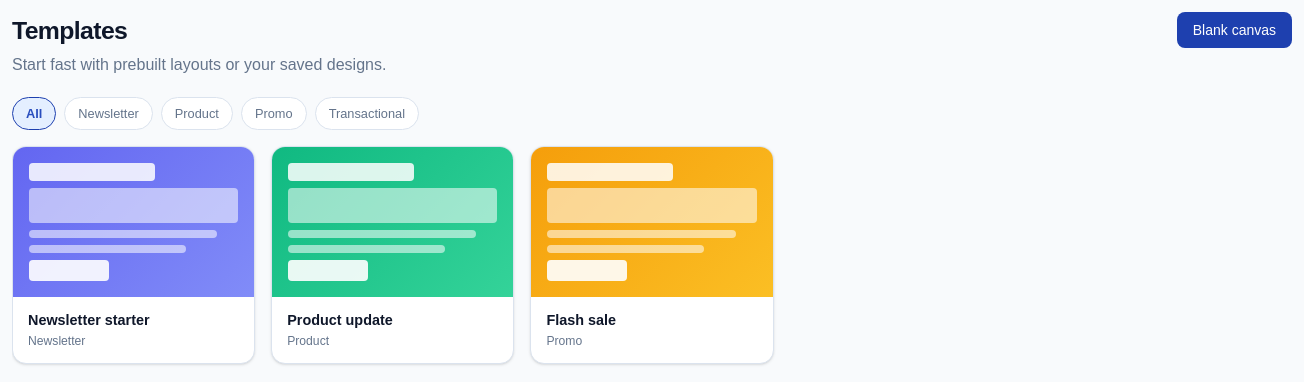
Test: clicking Promo chip filters to show only Promo template
Expected: the text "Newsletter starter" is shown, x1=28 y1=312 x2=150 y2=328
Click the Promo chip
Click the button "Promo".
click(274, 114)  # box x1=241 y1=97 x2=307 y2=130
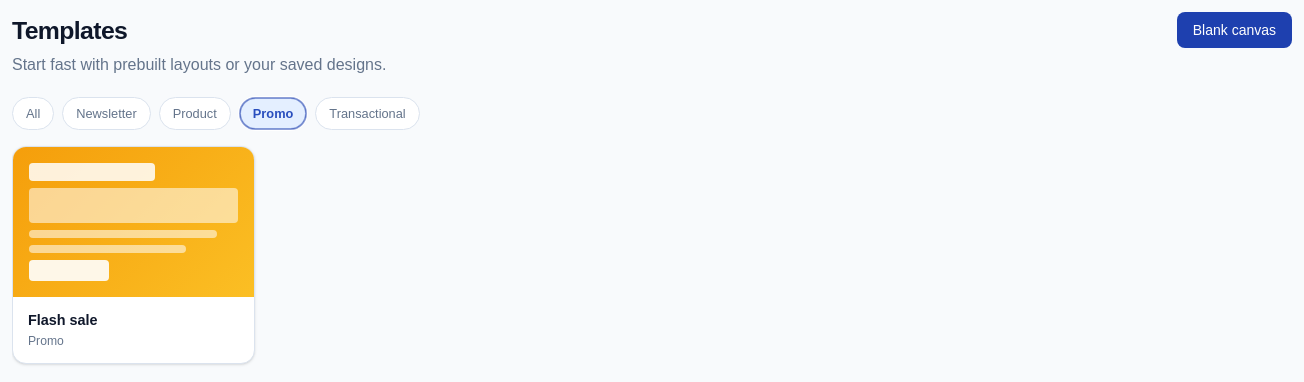
Expected: the text "Flash sale" is shown, x1=28 y1=312 x2=98 y2=328
Expected: the button "Newsletter starter" is gone
